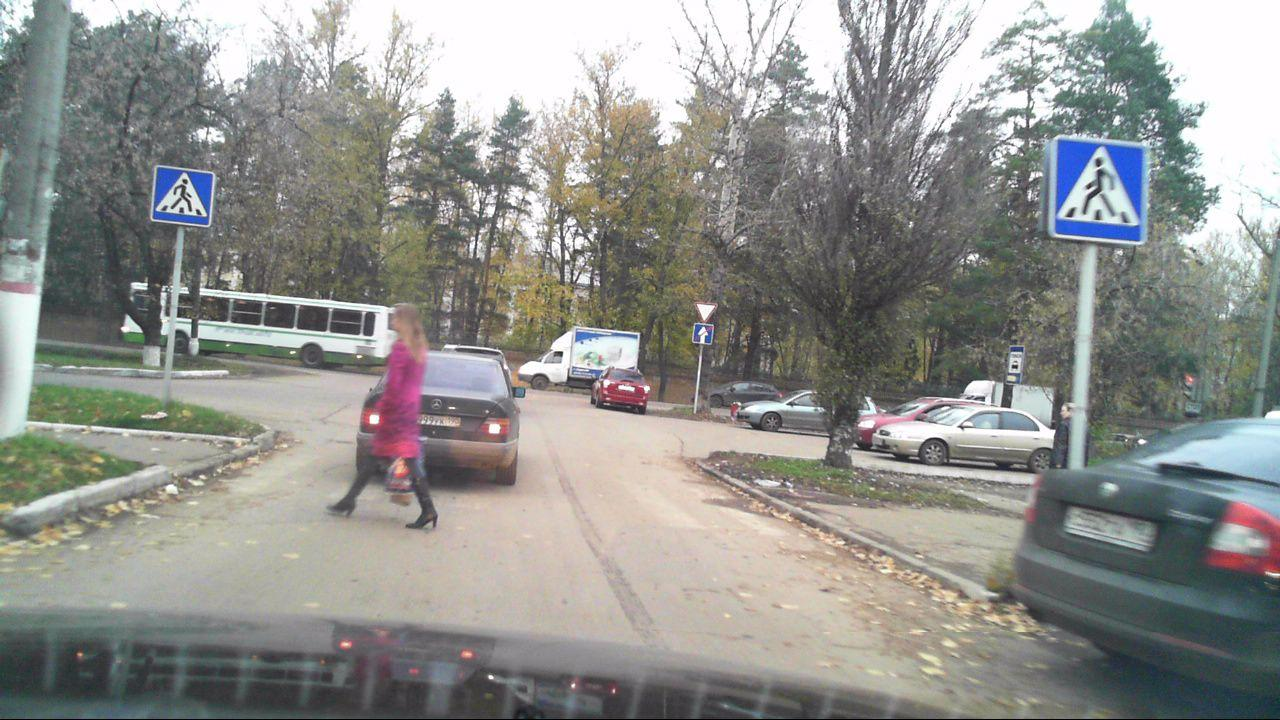2_4: (694, 299, 716, 324)
5_18: (1006, 346, 1024, 383)
5_19_1: (1048, 136, 1149, 244)
5_19_2: (147, 161, 217, 231)
5_6: (692, 324, 714, 344)
